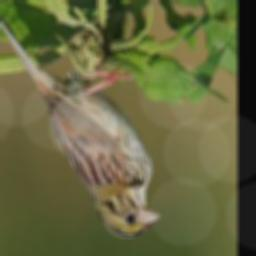Sparrow: (0, 5, 164, 242)
